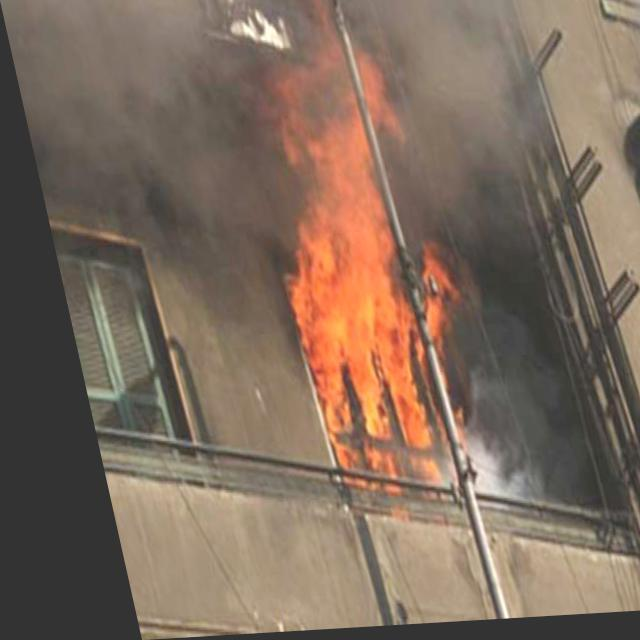Fire: (222, 22, 476, 500)
